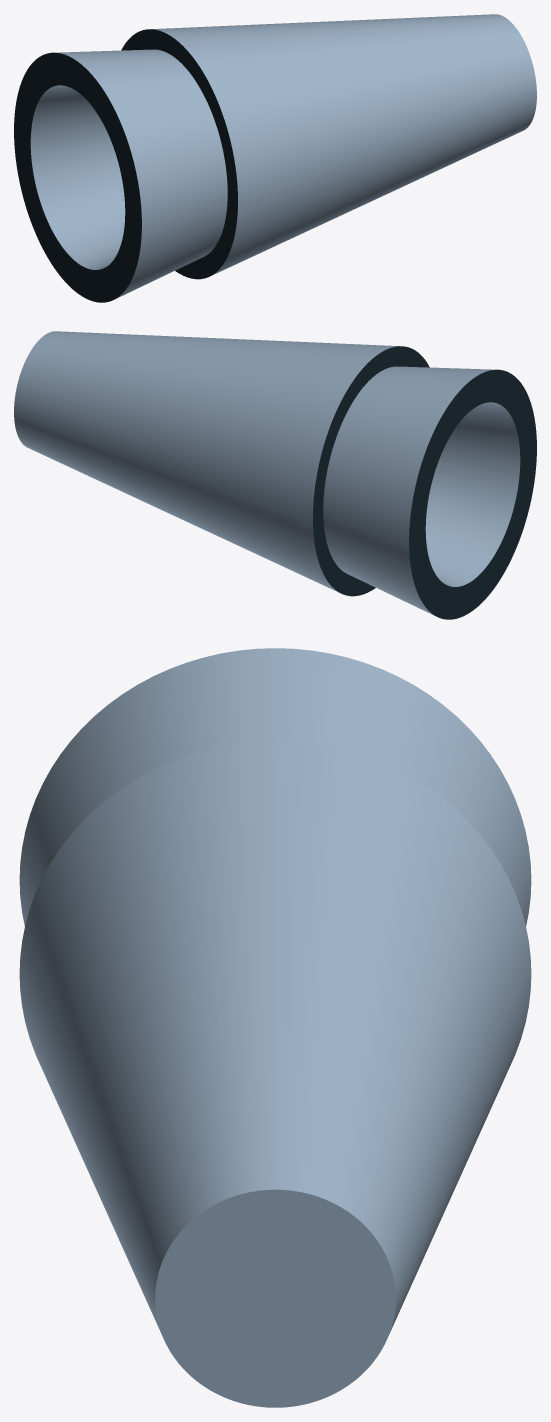
File: flashlight.fbx
3 views of the same model, one above another, from view 1: azimuth 30°, elevation 25°; view 2: azimuth 150°, elevation 25°; view 3: azimuth 270°, elevation 25° (orthographic). The views are drawn at different scales.
Visible parts, largest first — view 1: Cone.001, Cone, Cone.003, Cone.002; view 2: Cone.001, Cone, Cone.003, Cone.002; view 3: Cone.001, Cone.
Part boxes in pixels (x1,y1,x2,y2): Cone.001: (151, 14, 536, 275); Cone: (30, 49, 227, 298); Cone.003: (14, 52, 141, 302); Cone.002: (121, 29, 237, 279); Cone.001: (14, 331, 399, 592); Cone: (323, 366, 520, 615); Cone.003: (409, 369, 536, 619); Cone.002: (313, 346, 429, 596); Cone.001: (19, 742, 531, 1407); Cone: (19, 648, 531, 925).
Bounding box in the file's own units: 387 × 200 × 200.
